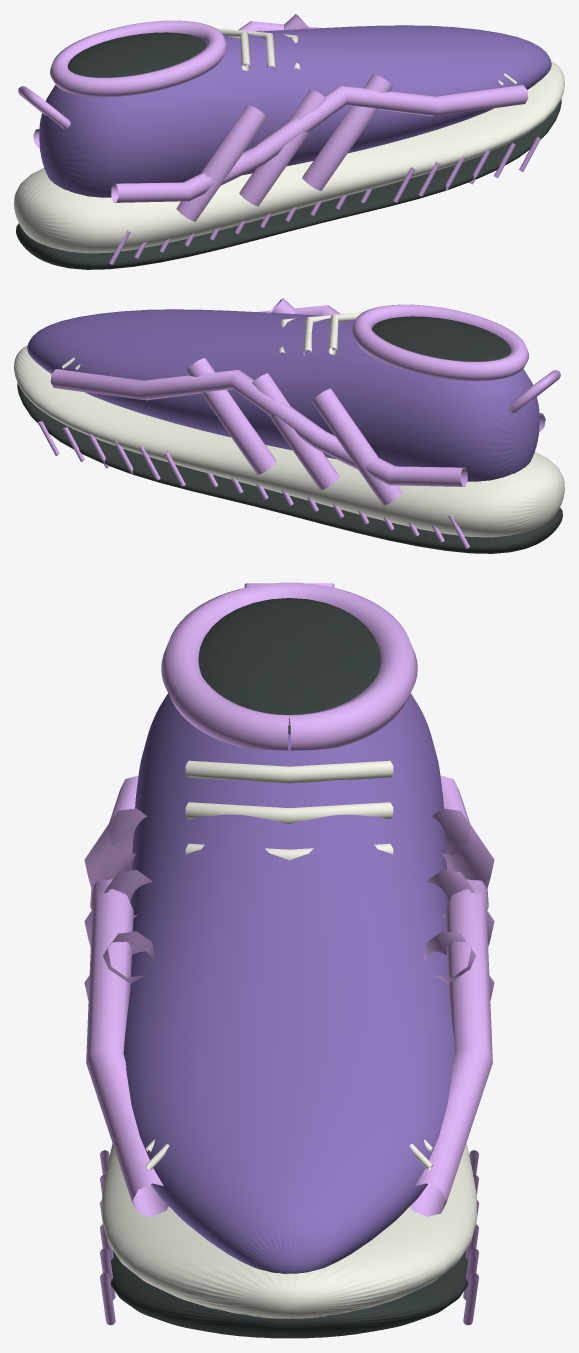
File: kai3.glb
The picture shows the model from 3 angles, top to bottom: view 1: azimuth 30°, elevation 25°; view 2: azimuth 150°, elevation 25°; view 3: azimuth 270°, elevation 25°; orthographic projection. The views are drawn at different scales.
Visible parts, largest first — view 1: kai3 optimized runtime mesh; view 2: kai3 optimized runtime mesh; view 3: kai3 optimized runtime mesh.
Part boxes in pixels (left/top/right/bottom): kai3 optimized runtime mesh: left=14, top=14, right=564, bottom=269; kai3 optimized runtime mesh: left=14, top=298, right=564, bottom=553; kai3 optimized runtime mesh: left=84, top=582, right=494, bottom=1338.
Size of the model in its own units: 2.98 by 1.04 by 0.9877.
